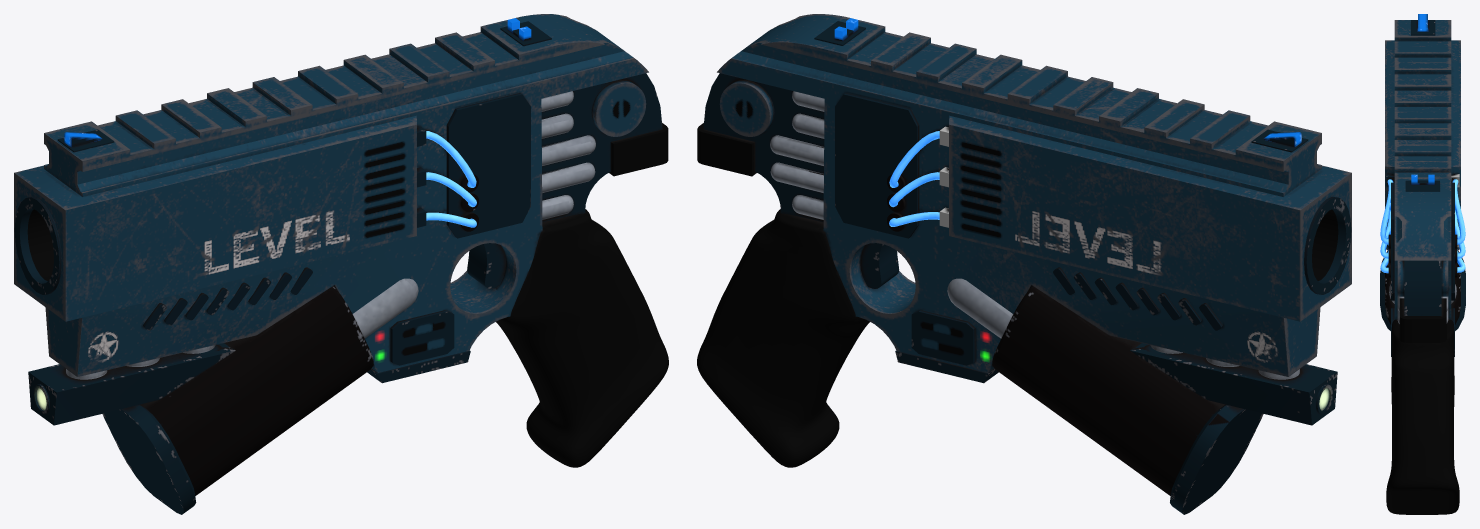
The model's file is pistol.glb.
3 views of the same model, side by side, from view 1: azimuth 30°, elevation 25°; view 2: azimuth 150°, elevation 25°; view 3: azimuth 270°, elevation 25° (orthographic). The views are drawn at different scales.
Parts seen in each view (by area): view 1: main.001_TT_checker_512x512_UV_GRID_0.003, handle.001_TT_checker_512x512_UV_GRID_0.003, mag.001_TT_checker_512x512_UV_GRID_0.003, 10.001_TT_checker_512x512_UV_GRID_0.003, 7.001_TT_checker_512x512_UV_GRID_0.003, 15.001_TT_checker_512x512_UV_GRID_0.003, 8.001_TT_checker_512x512_UV_GRID_0.003, 11.001_TT_checker_512x512_UV_GRID_0.003, 12.001_TT_checker_512x512_UV_GRID_0.003, 16.001_TT_checker_512x512_UV_GRID_0.003, 6.001_TT_checker_512x512_UV_GRID_0.003, 3.001_TT_checker_512x512_UV_GRID_0.003 (+4 smaller); view 2: main.001_TT_checker_512x512_UV_GRID_0.003, handle.001_TT_checker_512x512_UV_GRID_0.003, mag.001_TT_checker_512x512_UV_GRID_0.003, 10.001_TT_checker_512x512_UV_GRID_0.003, 7.001_TT_checker_512x512_UV_GRID_0.003, 15.001_TT_checker_512x512_UV_GRID_0.003, 8.001_TT_checker_512x512_UV_GRID_0.003, 11.001_TT_checker_512x512_UV_GRID_0.003, 12.001_TT_checker_512x512_UV_GRID_0.003, 16.001_TT_checker_512x512_UV_GRID_0.003, 6.001_TT_checker_512x512_UV_GRID_0.003, 3.001_TT_checker_512x512_UV_GRID_0.003 (+4 smaller); view 3: main.001_TT_checker_512x512_UV_GRID_0.003, handle.001_TT_checker_512x512_UV_GRID_0.003, 8.001_TT_checker_512x512_UV_GRID_0.003, 3.001_TT_checker_512x512_UV_GRID_0.003, wires.001_TT_checker_512x512_UV_GRID_0.003, mag.001_TT_checker_512x512_UV_GRID_0.003, 10.001_TT_checker_512x512_UV_GRID_0.003, 12.001_TT_checker_512x512_UV_GRID_0.003, 18.001_TT_checker_512x512_UV_GRID_0.003, 13.001_TT_checker_512x512_UV_GRID_0.003, 15.001_TT_checker_512x512_UV_GRID_0.003, 5.001_TT_checker_512x512_UV_GRID_0.003 (+3 smaller).
Part boxes in pixels (left/top/right/bottom): main.001_TT_checker_512x512_UV_GRID_0.003: left=14, top=14, right=648, bottom=376; handle.001_TT_checker_512x512_UV_GRID_0.003: left=496, top=209, right=668, bottom=467; mag.001_TT_checker_512x512_UV_GRID_0.003: left=102, top=286, right=373, bottom=514; 10.001_TT_checker_512x512_UV_GRID_0.003: left=446, top=93, right=530, bottom=238; 7.001_TT_checker_512x512_UV_GRID_0.003: left=28, top=343, right=235, bottom=425; 15.001_TT_checker_512x512_UV_GRID_0.003: left=352, top=91, right=595, bottom=338; 8.001_TT_checker_512x512_UV_GRID_0.003: left=541, top=73, right=662, bottom=222; 11.001_TT_checker_512x512_UV_GRID_0.003: left=390, top=310, right=454, bottom=365; 12.001_TT_checker_512x512_UV_GRID_0.003: left=591, top=80, right=646, bottom=136; 16.001_TT_checker_512x512_UV_GRID_0.003: left=143, top=267, right=312, bottom=330; 6.001_TT_checker_512x512_UV_GRID_0.003: left=14, top=196, right=61, bottom=294; 3.001_TT_checker_512x512_UV_GRID_0.003: left=609, top=123, right=668, bottom=176; main.001_TT_checker_512x512_UV_GRID_0.003: left=717, top=14, right=1351, bottom=376; handle.001_TT_checker_512x512_UV_GRID_0.003: left=697, top=209, right=869, bottom=467; mag.001_TT_checker_512x512_UV_GRID_0.003: left=992, top=286, right=1263, bottom=514; 10.001_TT_checker_512x512_UV_GRID_0.003: left=835, top=93, right=919, bottom=238; 7.001_TT_checker_512x512_UV_GRID_0.003: left=1130, top=343, right=1337, bottom=425; 15.001_TT_checker_512x512_UV_GRID_0.003: left=770, top=91, right=1013, bottom=338; 8.001_TT_checker_512x512_UV_GRID_0.003: left=703, top=73, right=824, bottom=222; 11.001_TT_checker_512x512_UV_GRID_0.003: left=911, top=310, right=975, bottom=365; 12.001_TT_checker_512x512_UV_GRID_0.003: left=719, top=80, right=774, bottom=136; 16.001_TT_checker_512x512_UV_GRID_0.003: left=1053, top=267, right=1222, bottom=330; 6.001_TT_checker_512x512_UV_GRID_0.003: left=1304, top=196, right=1351, bottom=294; 3.001_TT_checker_512x512_UV_GRID_0.003: left=697, top=123, right=756, bottom=176; main.001_TT_checker_512x512_UV_GRID_0.003: left=1385, top=20, right=1460, bottom=319; handle.001_TT_checker_512x512_UV_GRID_0.003: left=1386, top=319, right=1459, bottom=514; 8.001_TT_checker_512x512_UV_GRID_0.003: left=1404, top=260, right=1441, bottom=315; 3.001_TT_checker_512x512_UV_GRID_0.003: left=1399, top=298, right=1446, bottom=342; wires.001_TT_checker_512x512_UV_GRID_0.003: left=1380, top=179, right=1465, bottom=273; mag.001_TT_checker_512x512_UV_GRID_0.003: left=1380, top=250, right=1465, bottom=330; 10.001_TT_checker_512x512_UV_GRID_0.003: left=1391, top=182, right=1454, bottom=300; 12.001_TT_checker_512x512_UV_GRID_0.003: left=1397, top=260, right=1448, bottom=296; 18.001_TT_checker_512x512_UV_GRID_0.003: left=1405, top=20, right=1439, bottom=191; 13.001_TT_checker_512x512_UV_GRID_0.003: left=1388, top=234, right=1457, bottom=277; 15.001_TT_checker_512x512_UV_GRID_0.003: left=1389, top=284, right=1456, bottom=323; 5.001_TT_checker_512x512_UV_GRID_0.003: left=1411, top=174, right=1434, bottom=184.
Size of the model in its own units: 0.8534 by 0.5795 by 0.1389.
1 material, 1 textured.
